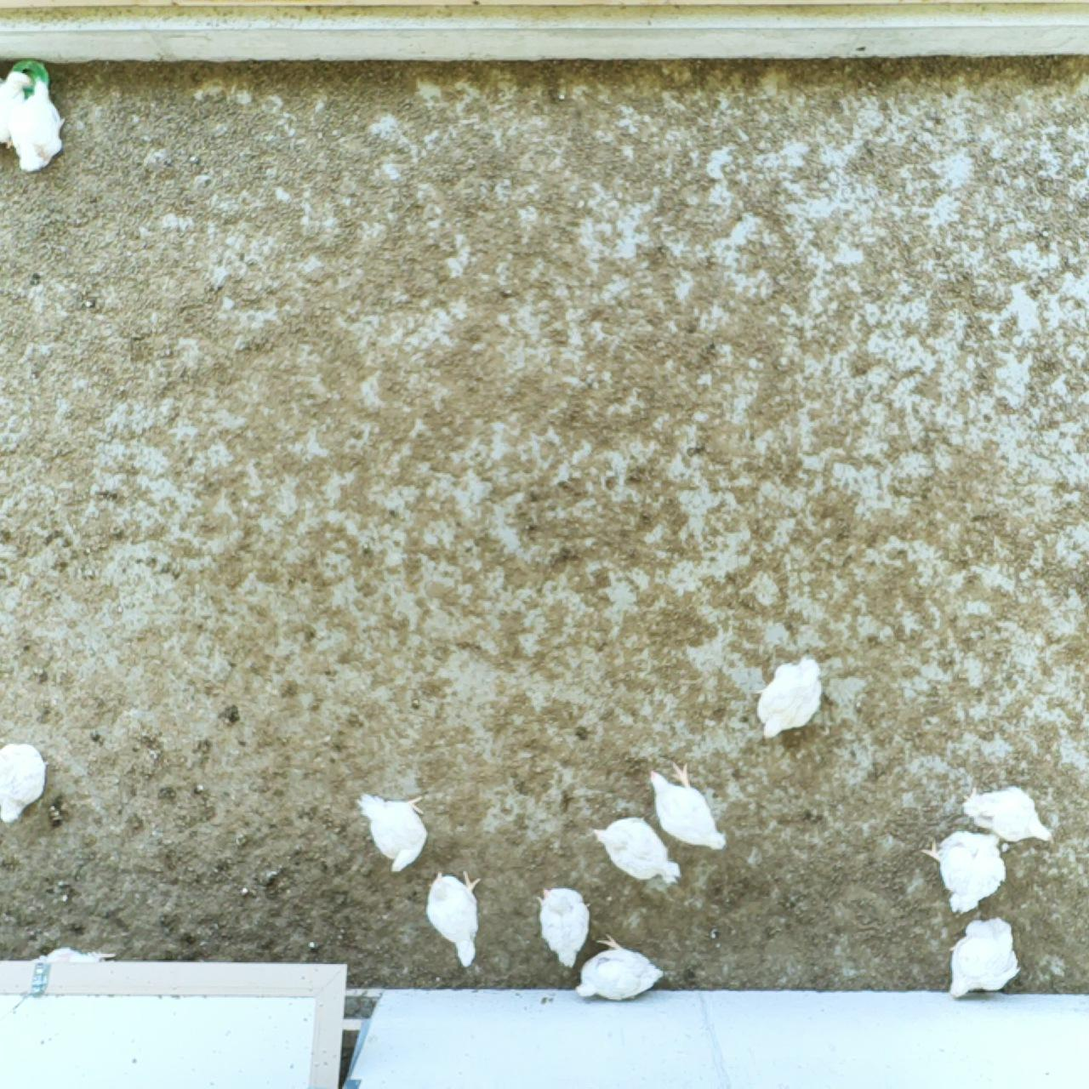chicken: (917, 825, 1009, 918), (645, 759, 730, 853), (590, 812, 688, 887), (753, 649, 829, 745), (572, 929, 669, 1004), (960, 778, 1059, 850), (354, 788, 431, 878), (944, 916, 1023, 1003), (423, 866, 483, 971), (12, 76, 68, 176), (535, 883, 593, 972), (0, 740, 51, 826), (0, 67, 35, 153)
